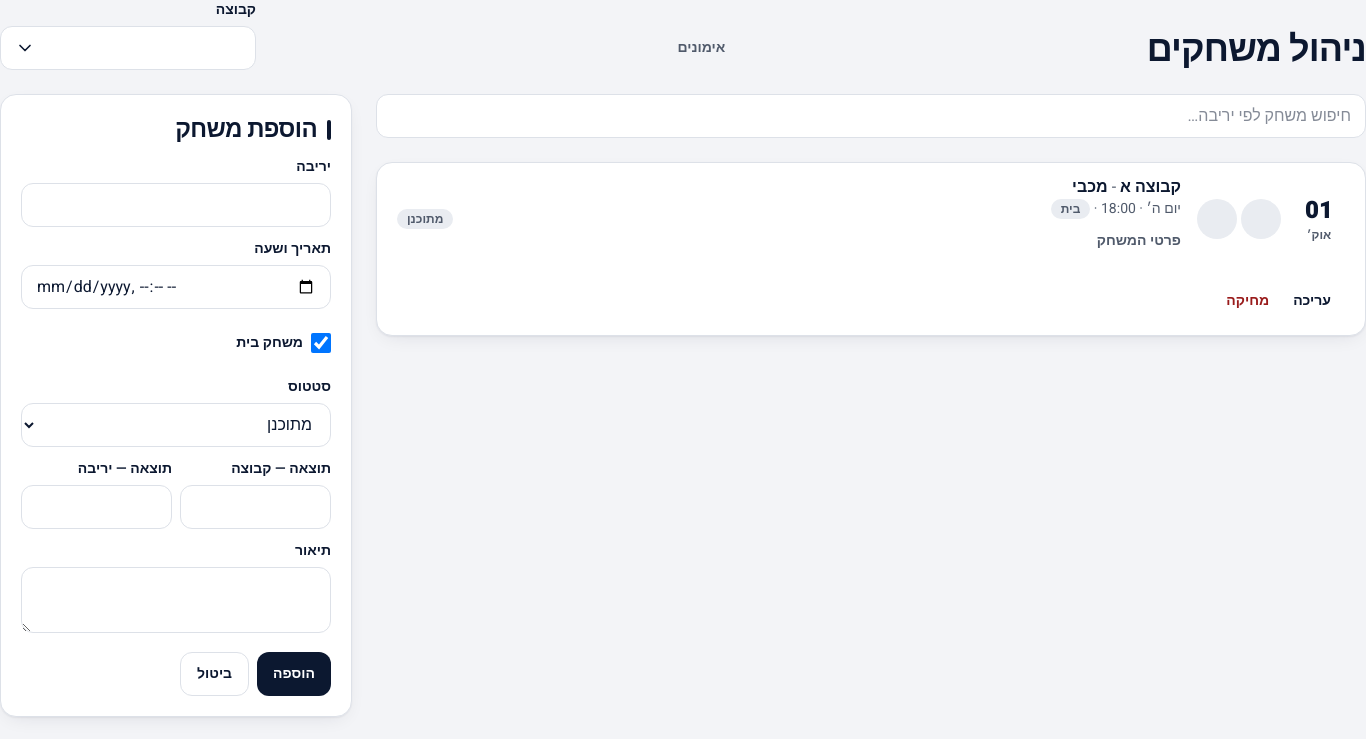
Scenario: AdminGamesView › delete removes a game from the list
The image size is (1366, 739).
Click the button "מחיקה".
click(1248, 301)  # box [1216,279,1279,323]
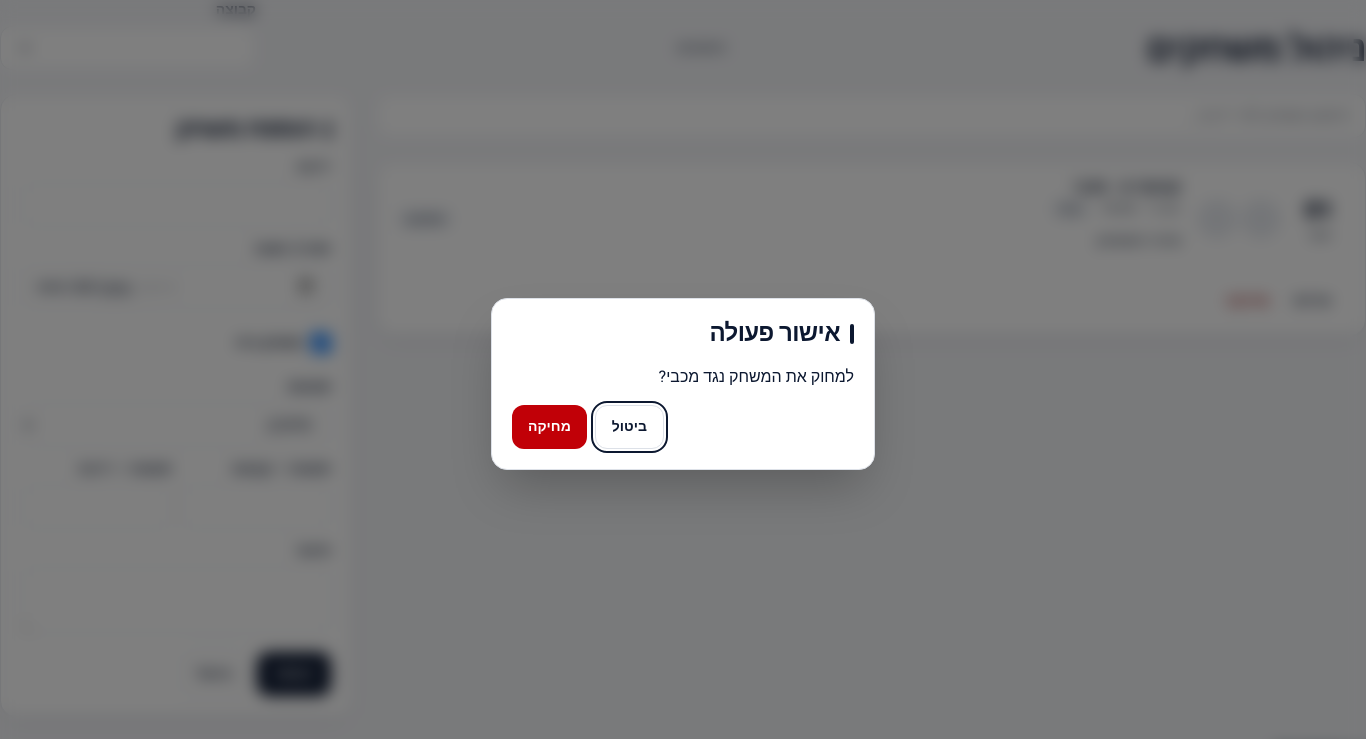
Click the button "מחיקה".
click(549, 427)  # box [512,405,587,449]
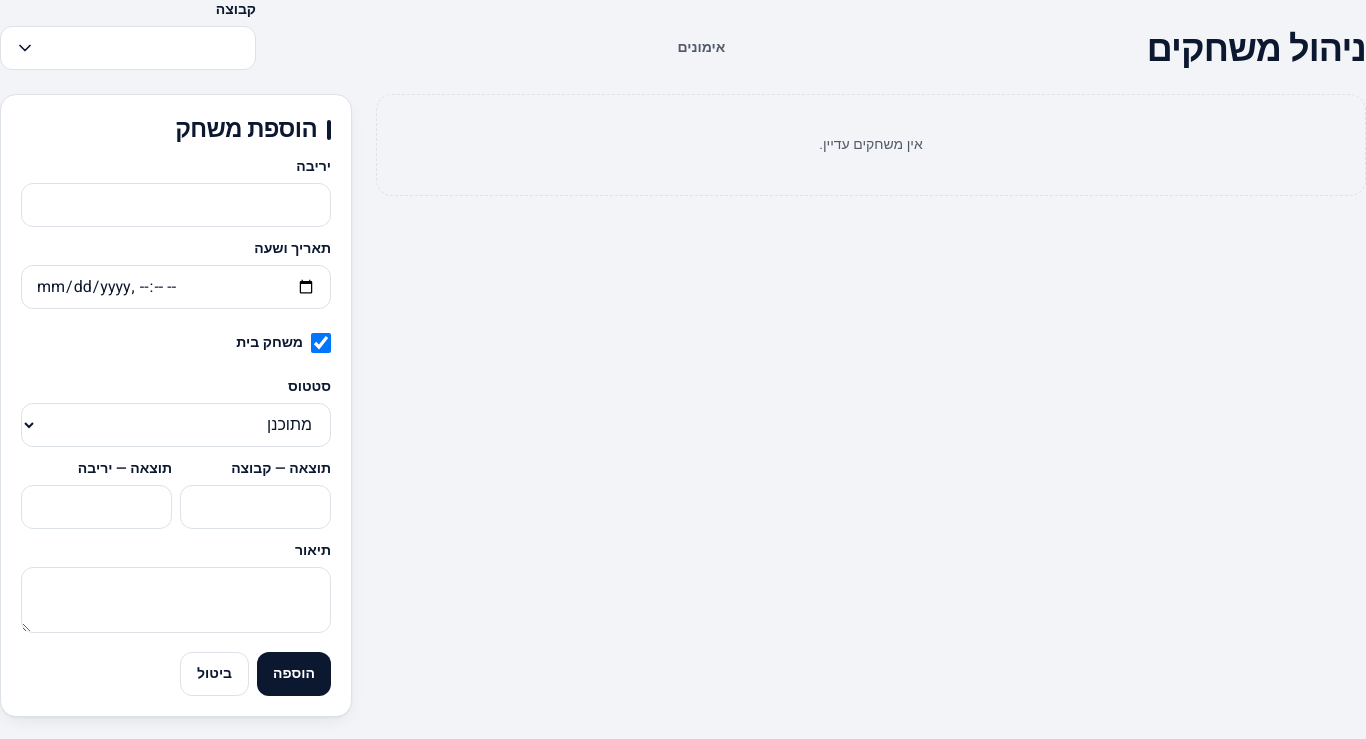
Result: the text "מכבי" is gone
